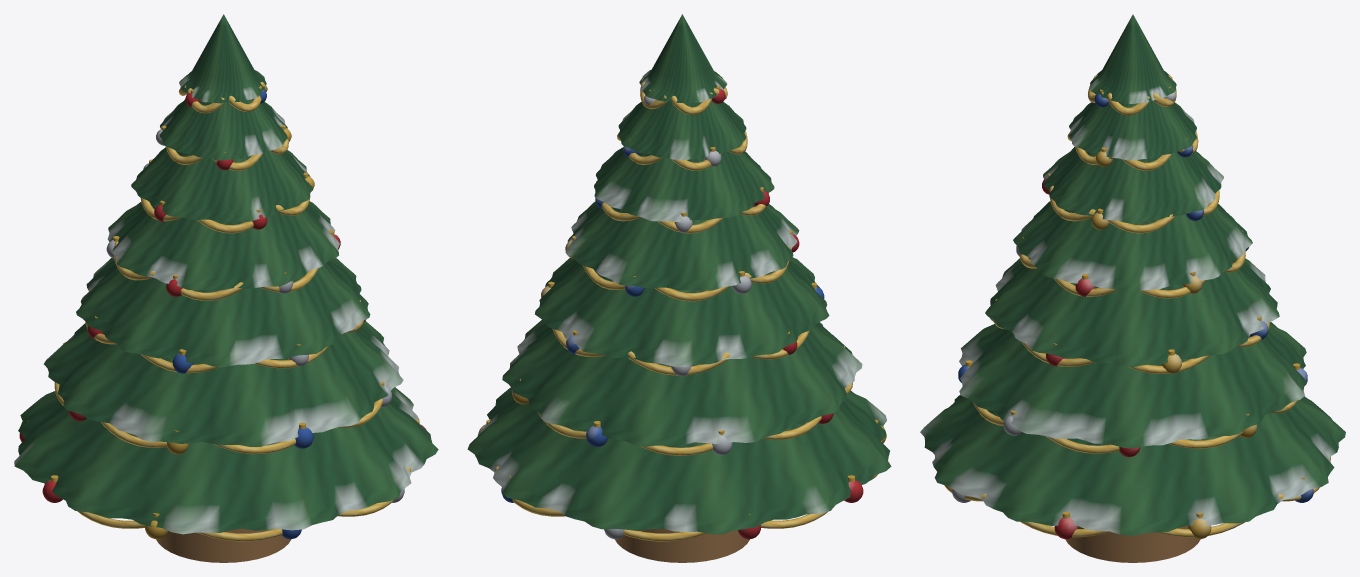
File: Xmas_Tree.fbx
The picture shows the model from 3 angles, left to right: view 1: azimuth 30°, elevation 25°; view 2: azimuth 150°, elevation 25°; view 3: azimuth 270°, elevation 25°; orthographic projection.
Visible parts, largest first — view 1: Xmas_Tree; view 2: Xmas_Tree; view 3: Xmas_Tree.
Boxes of the visible parts, box(x1,y1,x2,y2) form: Xmas_Tree: box(14, 14, 438, 562); Xmas_Tree: box(467, 14, 891, 562); Xmas_Tree: box(920, 14, 1345, 562).
Bounding box in the file's own units: 36.69 × 49.8 × 36.99.
